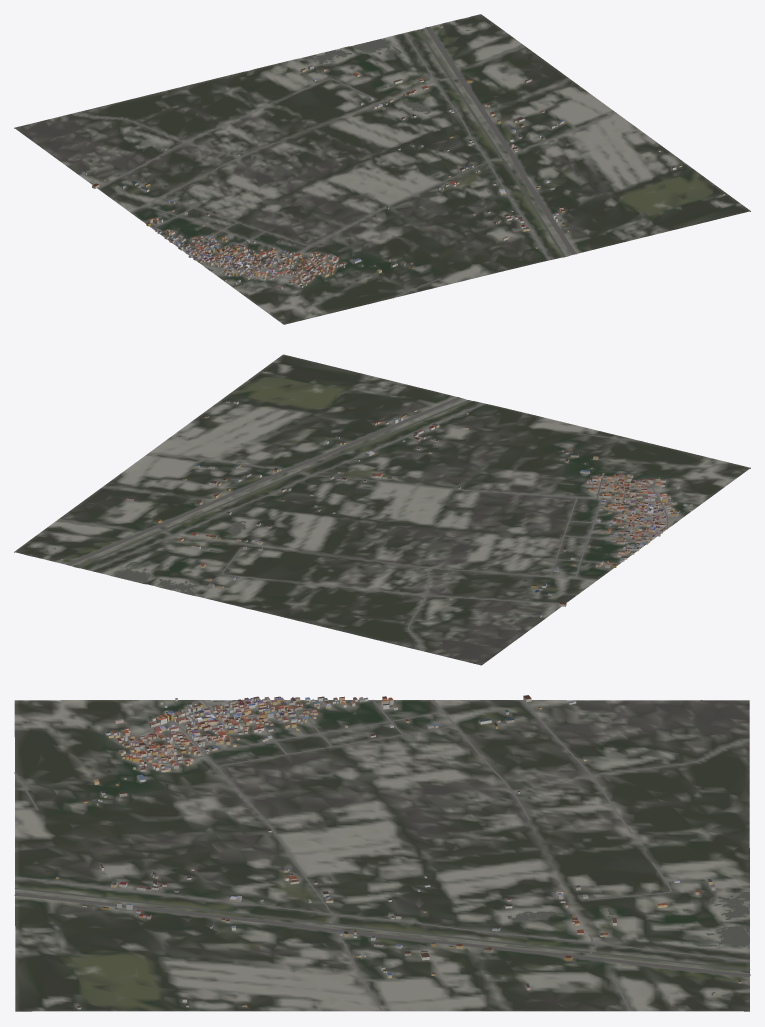
The picture shows the model from 3 angles, top to bottom: view 1: azimuth 30°, elevation 25°; view 2: azimuth 150°, elevation 25°; view 3: azimuth 270°, elevation 25°; orthographic projection. The views are drawn at different scales.
Parts seen in each view (by area): view 1: ground, buildings, roads, water; view 2: ground, buildings, roads, water; view 3: ground, buildings, roads, water.
Part boxes in pixels (x1,y1,x2,y2): ground: (14, 14, 750, 324); buildings: (82, 25, 724, 289); roads: (74, 27, 616, 298); water: (207, 17, 565, 271); ground: (14, 354, 750, 665); buildings: (59, 370, 692, 617); roads: (58, 397, 681, 650); water: (28, 400, 677, 607); ground: (14, 700, 749, 1011); buildings: (55, 695, 741, 1009); roads: (14, 699, 750, 1011); water: (15, 700, 750, 1003).
Bounding box in the file's own units: 1413 × 17.88 × 1406.
